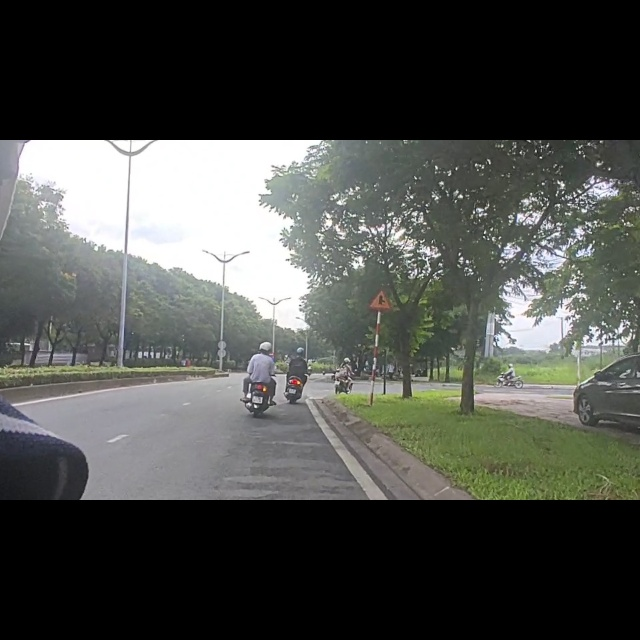Giao nhau với đường không ưu tiên: (366, 288, 395, 312)
